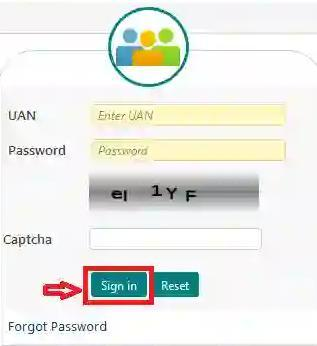button: (92, 273, 149, 299), (154, 273, 200, 299)
input: (91, 140, 288, 164), (91, 105, 287, 128), (89, 228, 263, 252)
label: (2, 234, 57, 250), (7, 144, 69, 158), (6, 111, 39, 124)
